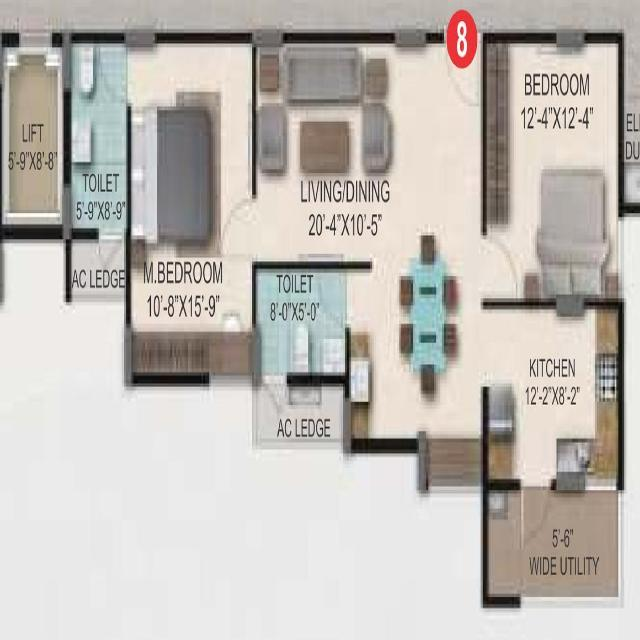Bedroom: (483, 35, 622, 309)
Enterance-Foyer: (443, 11, 482, 111)
Kitchen: (484, 309, 624, 495)
Living: (253, 35, 401, 259)
Toilet: (70, 37, 130, 237), (252, 263, 345, 385)
Utility: (486, 491, 621, 601)
